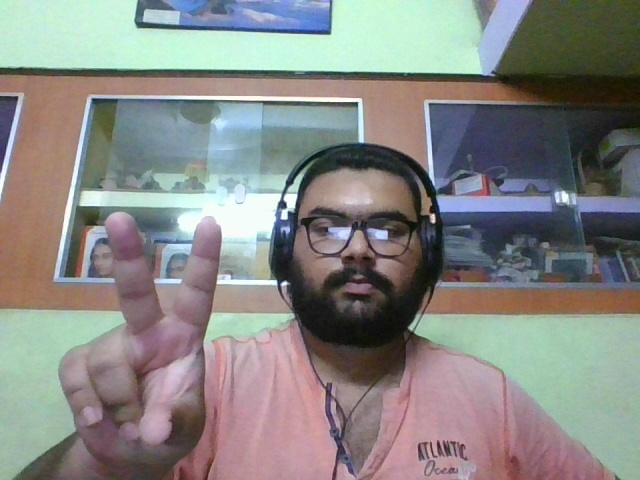iloveyou: (57, 213, 225, 473)
